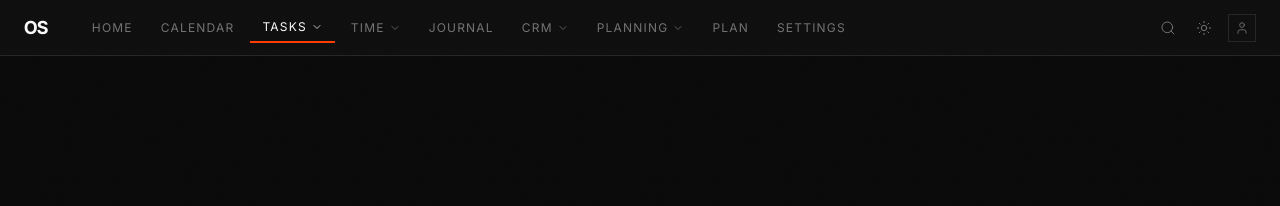
Scenario: TASKS button toggles dropdown
Click the button "TASKS": [293, 28] box [250, 12, 335, 42]
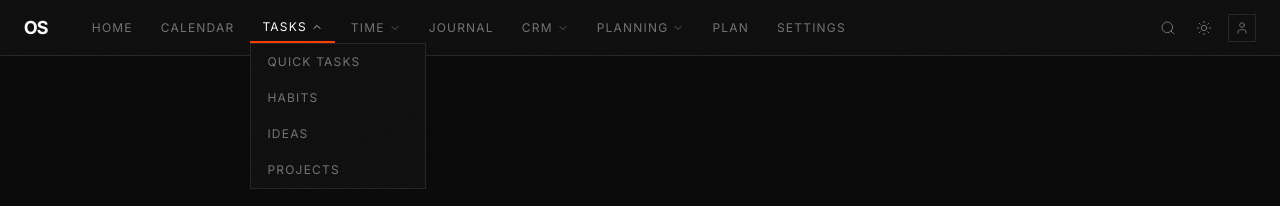
Expected: the link "QUICK TASKS" is shown, [267, 54, 360, 68]
